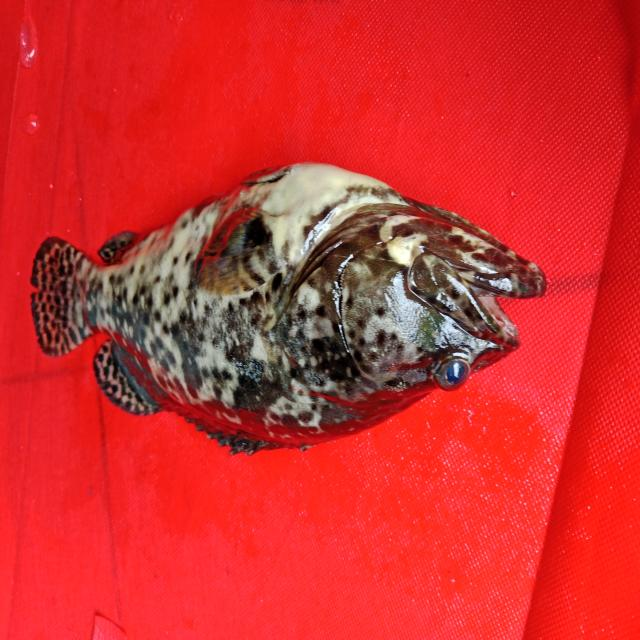ikan: (17, 133, 559, 484)
